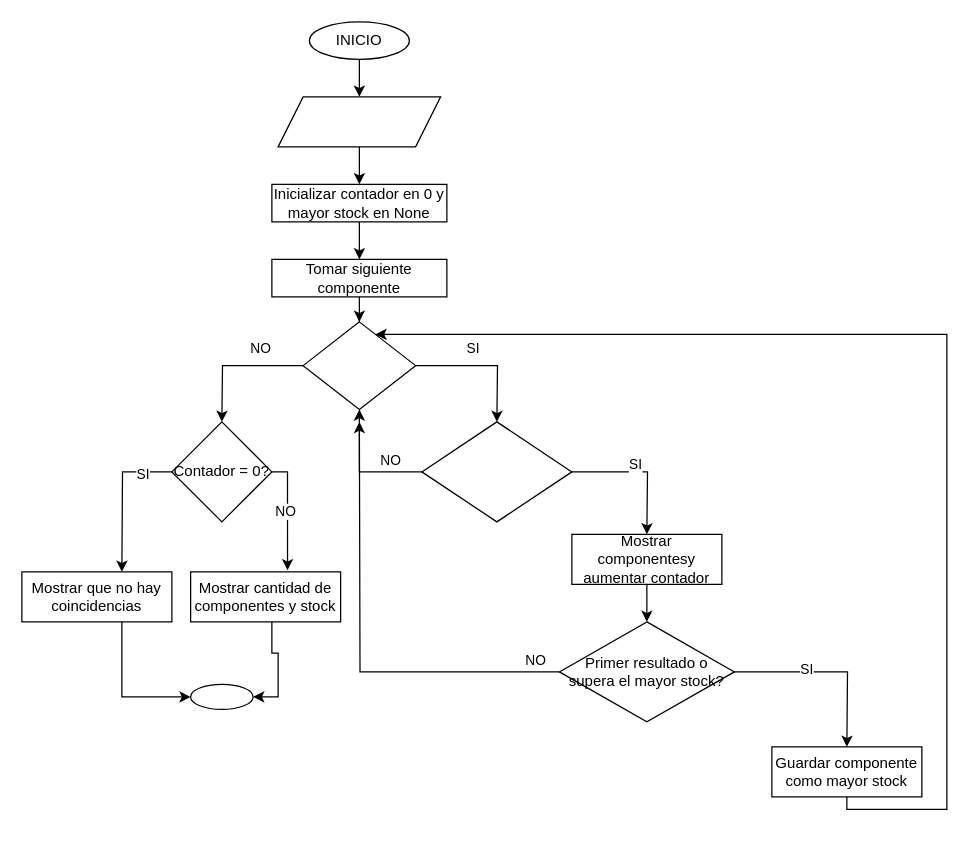
The diagram is 979 pixels wide and 841 high, and some of its shapes have lost their labels. Here are the shapes that lost their labels. From the top down, the centre of each, then its label:
pixel 359 121: Ingresar tipo y Stock minimo
pixel 359 365: Quedan componentes?
pixel 496 471: Coincide tipo y stock >= minimo?
pixel 221 696: FIN
